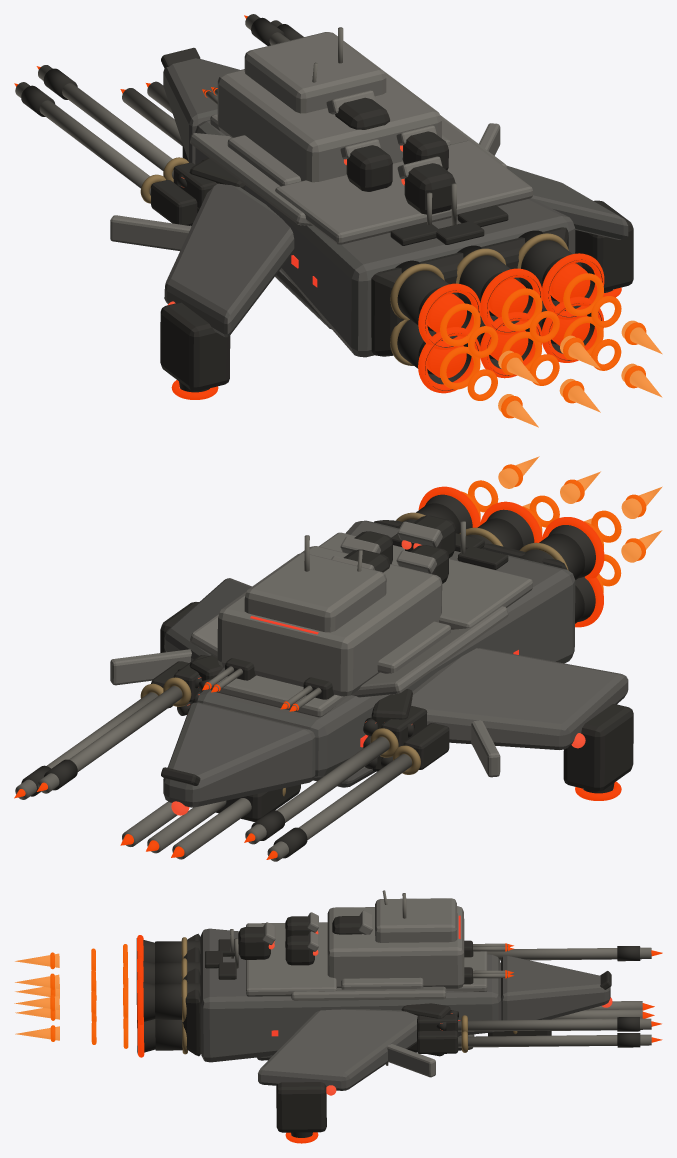
File: ss-shrinkage.glb
3 views of the same model, one above another, from view 1: azimuth 30°, elevation 25°; view 2: azimuth 150°, elevation 25°; view 3: azimuth 270°, elevation 25° (orthographic). The views are drawn at different scales.
Visible parts, largest first — view 1: HullMain, WingL, BridgeBase, DeckPlateA, BridgeStep, TipPodL, HullProw, EngineDeck, WingR, ShoulderPlateL, TipPodR, LanceL1 (+33 smaller); view 2: WingL, BridgeBase, HullMain, HullProw, BridgeStep, DeckPlateA, TipPodL, ShoulderPlateL, WingR, LanceL0, LanceR0, LanceL1 (+28 smaller); view 3: HullMain, WingR, BridgeBase, HullProw, DeckPlateA, BridgeStep, TipPodR, LanceR0, LanceR1, ShoulderPlateR, LanceL0, EngineDeck (+17 smaller).
Boxes of the visible parts, box(x1,y1,x2,y2) form: HullMain: box(195, 120, 575, 357); WingL: box(164, 183, 294, 337); BridgeBase: box(217, 69, 441, 182); DeckPlateA: box(275, 140, 532, 244); BridgeStep: box(244, 32, 386, 113); TipPodL: box(160, 302, 230, 390); HullProw: box(163, 58, 239, 164); EngineDeck: box(371, 227, 568, 356); WingR: box(507, 165, 628, 239); ShoulderPlateL: box(190, 133, 312, 225); TipPodR: box(575, 200, 633, 291); LanceL1: box(15, 82, 150, 195); WingL: box(411, 648, 628, 749); BridgeBase: box(217, 546, 442, 696); HullMain: box(196, 520, 575, 777); HullProw: box(163, 702, 315, 807); BridgeStep: box(244, 553, 386, 632); DeckPlateA: box(319, 532, 532, 629); TipPodL: box(563, 704, 633, 791); ShoulderPlateL: box(351, 606, 508, 697); WingR: box(164, 578, 251, 661); LanceL0: box(245, 736, 389, 844); LanceR0: box(38, 686, 182, 793); LanceL1: box(267, 754, 411, 861); HullMain: box(200, 928, 501, 1062); WingR: box(258, 1009, 417, 1090); BridgeBase: box(327, 906, 464, 988); HullProw: box(501, 955, 610, 1020); DeckPlateA: box(246, 922, 336, 996); BridgeStep: box(375, 898, 457, 942); TipPodR: box(276, 1082, 326, 1132); LanceR0: box(458, 1018, 651, 1031); LanceR1: box(458, 1034, 651, 1047); ShoulderPlateR: box(291, 986, 446, 1000); LanceL0: box(487, 947, 651, 959); EngineDeck: box(182, 933, 200, 1056).
Bounding box in the file's own units: 11.09 × 6.14 × 19.96.
